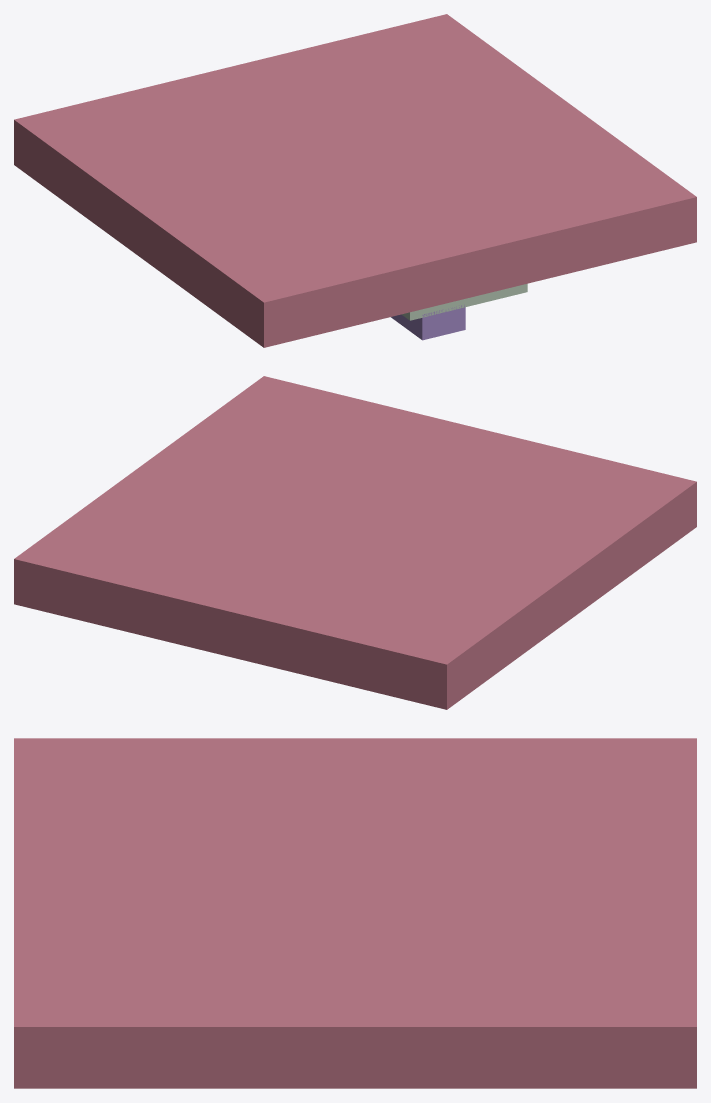
3 renders of one model, top to bottom at view 1: azimuth 30°, elevation 25°; view 2: azimuth 150°, elevation 25°; view 3: azimuth 270°, elevation 25°, orthographic. The views are drawn at different scales.
Visible parts, largest first — view 1: world; view 2: world; view 3: world.
Boxes of the visible parts, left/top/right/bottom form: world: left=14, top=14, right=696, bottom=347; world: left=14, top=376, right=696, bottom=709; world: left=14, top=738, right=696, bottom=1088.
Size of the model in its own units: 7 by 1.45 by 7.
